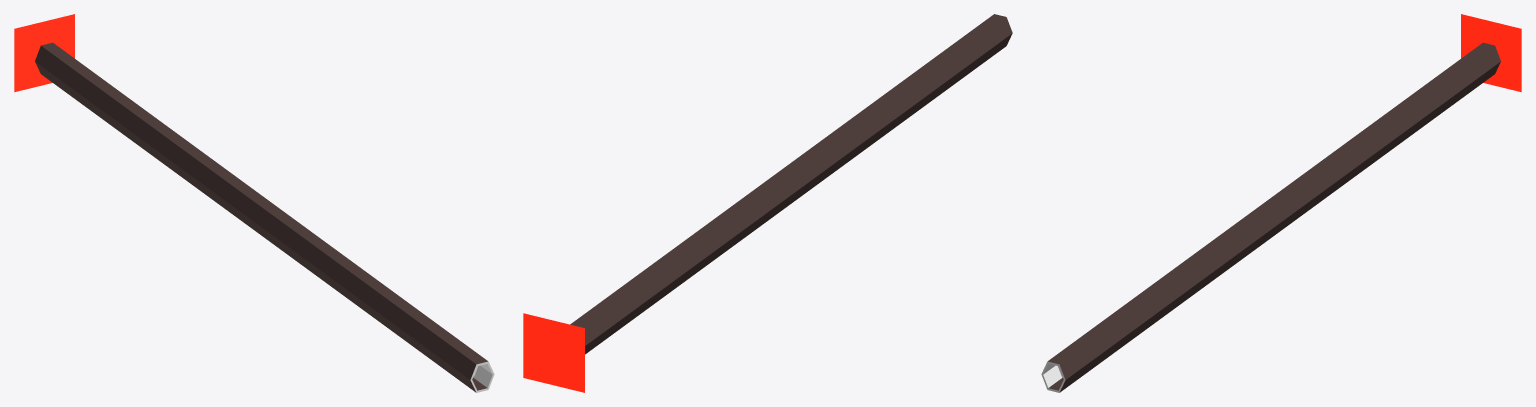
File: tunnel.glb
The picture shows the model from 3 angles, left to right: view 1: azimuth 30°, elevation 25°; view 2: azimuth 150°, elevation 25°; view 3: azimuth 330°, elevation 25°; orthographic projection.
Parts seen in each view (by area): view 1: Cylinder_0, Plane_1; view 2: Cylinder_0, Plane_1; view 3: Cylinder_0, Plane_1.
Boxes of the visible parts, <box> form: Cylinder_0: <box>35,42,494,392</box>; Plane_1: <box>14,14,74,92</box>; Cylinder_0: <box>570,14,1012,354</box>; Plane_1: <box>523,313,584,392</box>; Cylinder_0: <box>1041,42,1500,392</box>; Plane_1: <box>1461,14,1521,92</box>.
Bounding box in the file's own units: 8.8 × 8.8 × 110.
4 materials, 2 textured.
